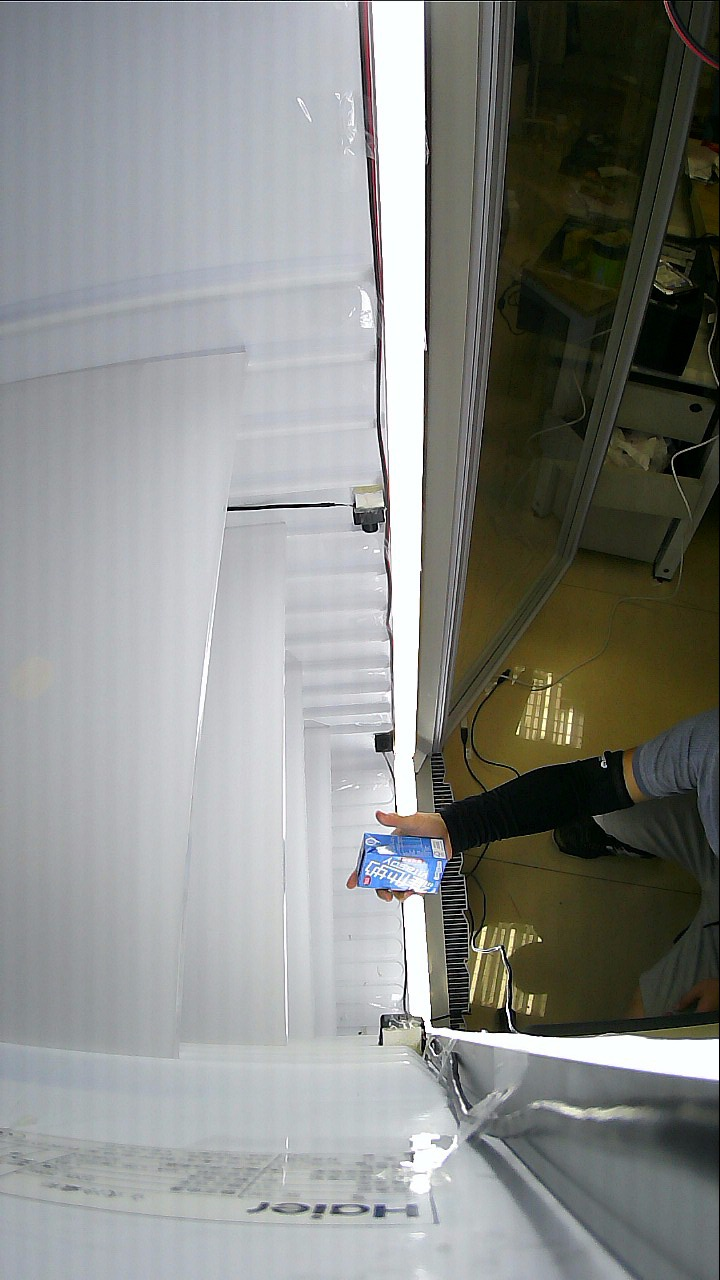VitaSoyOriginal: (351, 802, 472, 904)
